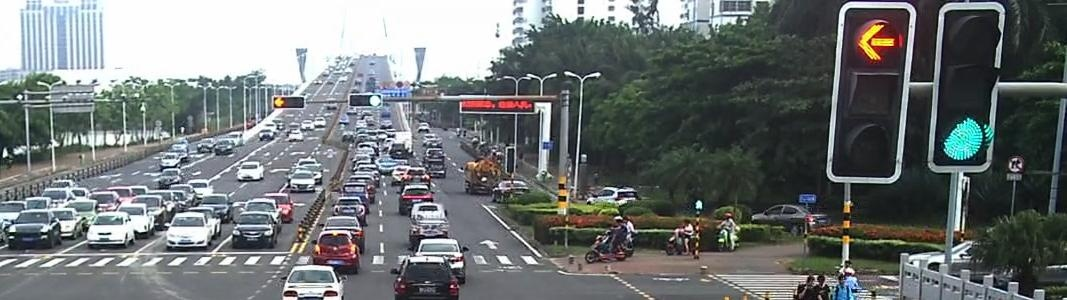green: (940, 116, 988, 159), (369, 94, 381, 107)
greenpeople: (695, 199, 705, 212)
redleft: (853, 21, 900, 64), (273, 95, 284, 109)
